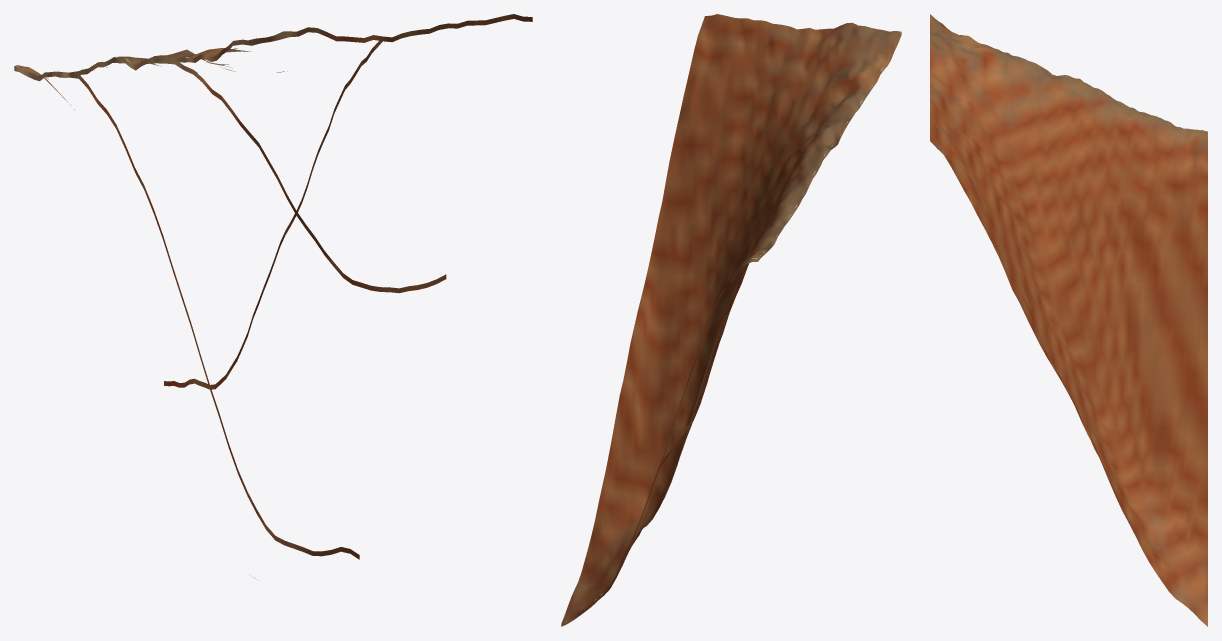
Rendered from terrain-132.glb.
The picture shows the model from 3 angles, left to right: view 1: azimuth 30°, elevation 25°; view 2: azimuth 150°, elevation 25°; view 3: azimuth 270°, elevation 25°; orthographic projection. The views are drawn at different scales.
Visible parts, largest first — view 1: terrain-132; view 2: terrain-132; view 3: terrain-132.
Part boxes in pixels (x1=…): terrain-132: x1=14, y1=14, x2=532, y2=580; terrain-132: x1=561, y1=14, x2=901, y2=626; terrain-132: x1=930, y1=14, x2=1207, y2=626.
Size of the model in its own units: 256 by 669 by 324.
